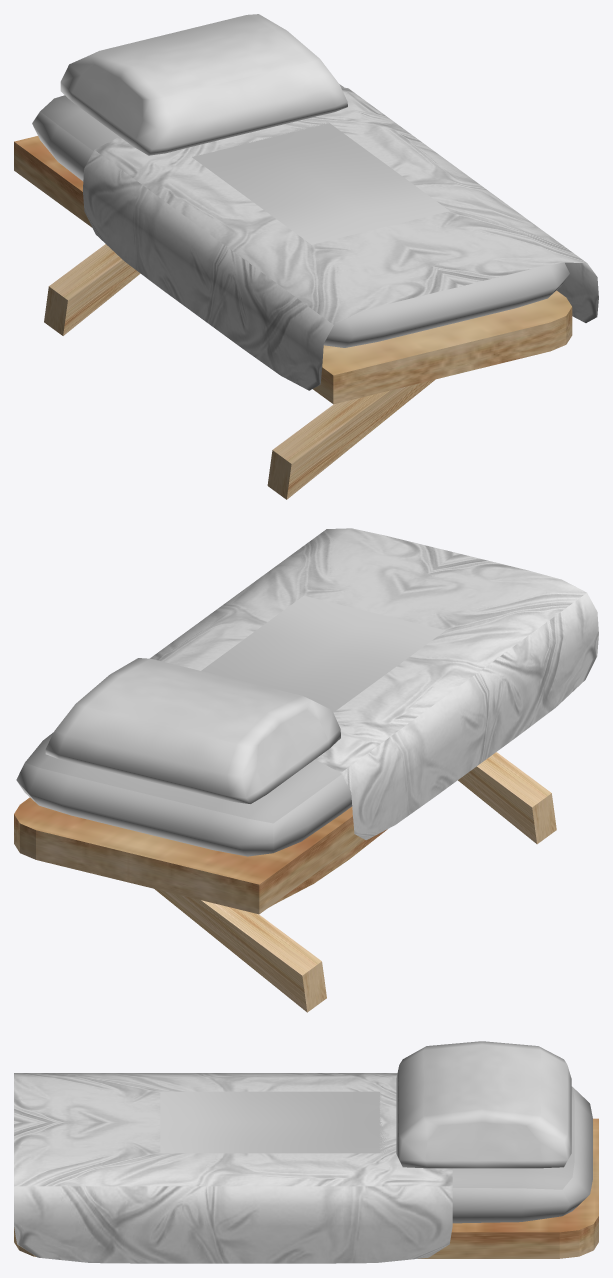
3 views of the same model, one above another, from view 1: azimuth 30°, elevation 25°; view 2: azimuth 150°, elevation 25°; view 3: azimuth 270°, elevation 25° (orthographic). The views are drawn at different scales.
Visible parts, largest first — view 1: Cube176_fabric_wrinkles_0, Cube177_Wood_09001_0; view 2: Cube176_fabric_wrinkles_0, Cube177_Wood_09001_0; view 3: Cube176_fabric_wrinkles_0, Cube177_Wood_09001_0.
Part boxes in pixels (left/top/right/bottom): Cube176_fabric_wrinkles_0: left=32, top=14, right=598, bottom=390; Cube177_Wood_09001_0: left=14, top=136, right=572, bottom=499; Cube176_fabric_wrinkles_0: left=16, top=528, right=598, bottom=856; Cube177_Wood_09001_0: left=14, top=752, right=556, bottom=1012; Cube176_fabric_wrinkles_0: left=14, top=1041, right=592, bottom=1263; Cube177_Wood_09001_0: left=14, top=1118, right=598, bottom=1258.
Bounding box in the file's own units: 1 × 0.8921 × 2.
Materials: 2 (2 with a texture image).
